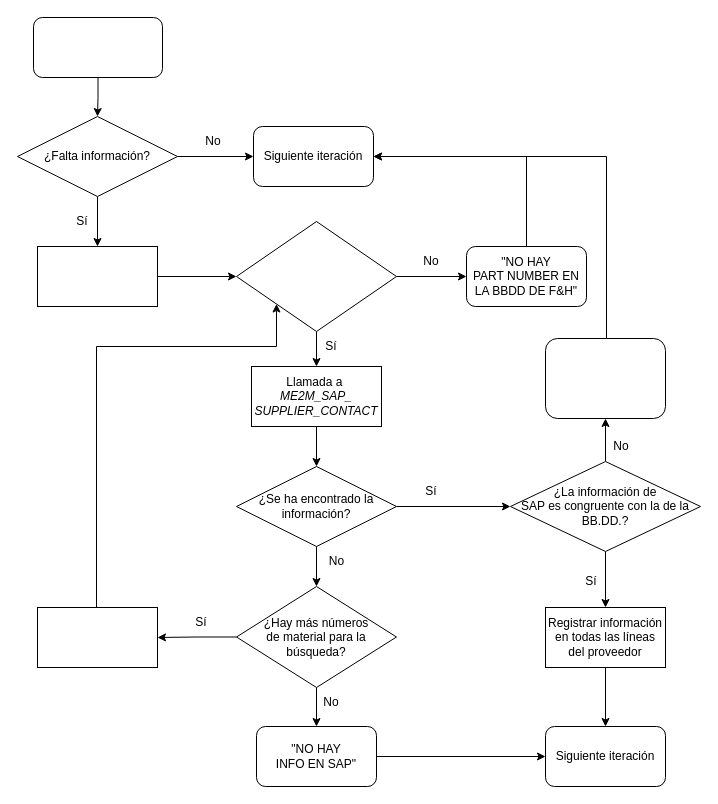
The diagram is 718 pixels wide and 804 high, and some of its shapes have lost their labels. The centre of each missing label's shape, as x and y in pixels:
"El nombre del proveedor encontrado en SAP es diferente": (605,378)
Ejecución de SAP_infoProveedores: (97,47)
Llamada a LocateSupplier: (97,276)
Siguiente Part Number: (97,637)
¿Se ha encontrado la información para la búsqueda?: (316,276)
